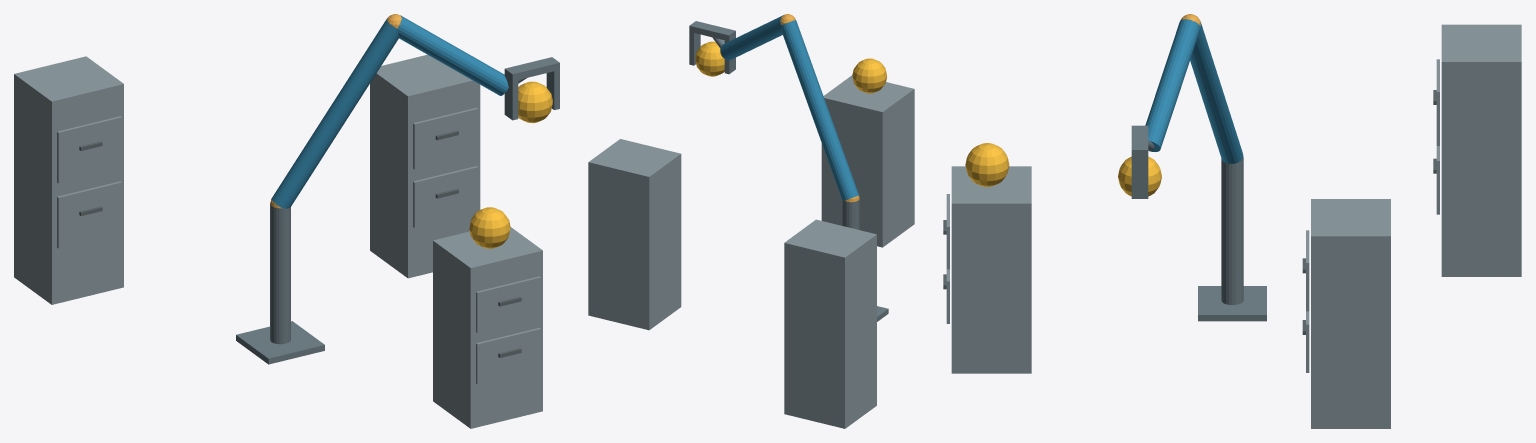
3 views of the same model, side by side, from view 1: azimuth 30°, elevation 25°; view 2: azimuth 150°, elevation 25°; view 3: azimuth 270°, elevation 25° (orthographic). The views are drawn at different scales.
Parts seen in each view (by area): view 1: cabinet_3 body, cabinet_2 body, cabinet_1 body, moving link 1, cabinet_3 drawer front.001, cabinet_3 drawer front, cabinet_2 drawer front.001, cabinet_2 drawer front, fixed post, cabinet_1 drawer front, cabinet_1 drawer front.001, moving link 2 (+5 smaller); view 2: cabinet_3 body, cabinet_2 body, cabinet_1 body, moving link 1, moving link 2, released ball_1, ball ball_2, gripper bridge, fixed post, gripper finger 1; view 3: cabinet_3 body, cabinet_2 body, cabinet_1 body, fixed post, moving link 2, moving link 1, pedestal, released ball_1, ball ball_2, gripper finger 1, gripper bridge.
Part boxes in pixels (x1,y1,x2,y2): cabinet_3 body: (14,56,123,304); cabinet_2 body: (370,54,480,278); cabinet_1 body: (433,227,542,428); moving link 1: (271,19,398,208); cabinet_3 drawer front.001: (57,116,121,183); cabinet_3 drawer front: (57,181,121,248); cabinet_2 drawer front.001: (413,107,478,169); cabinet_2 drawer front: (413,166,478,227); fixed post: (270,203,290,344); cabinet_1 drawer front: (476,328,540,384); cabinet_1 drawer front.001: (476,276,540,332); moving link 2: (397,15,508,95); cabinet_3 body: (784,219,876,428); cabinet_2 body: (588,139,681,330); cabinet_1 body: (821,75,914,247); moving link 1: (781,20,858,200); moving link 2: (720,14,784,60); released ball_1: (852,58,886,93); ball ball_2: (695,41,724,76); gripper bridge: (689,21,735,41); fixed post: (842,199,859,229); gripper finger 1: (689,32,700,65); cabinet_3 body: (1441,24,1521,276); cabinet_2 body: (1311,199,1390,428); cabinet_1 body: (951,166,1031,373); fixed post: (1221,157,1243,304); moving link 2: (1145,19,1200,151); moving link 1: (1190,22,1243,163); pedestal: (1198,286,1266,321); released ball_1: (965,143,1009,186); ball ball_2: (1118,156,1161,196); gripper finger 1: (1131,157,1148,198); gripper bridge: (1131,125,1148,157).
Bounding box in the file's own units: 1.62 × 1.36 × 2.1.
